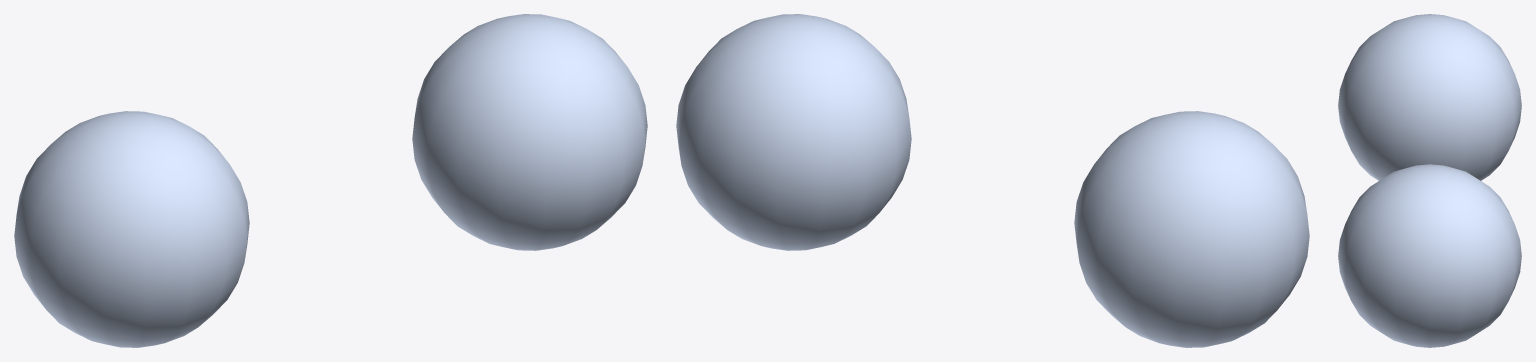
File: 15_back_twinbun_high.fbx
3 views of the same model, side by side, from view 1: azimuth 30°, elevation 25°; view 2: azimuth 150°, elevation 25°; view 3: azimuth 270°, elevation 25° (orthographic). The views are drawn at different scales.
Parts seen in each view (by area): view 1: 15_back_twinbun_high; view 2: 15_back_twinbun_high; view 3: 15_back_twinbun_high.
Part boxes in pixels (bbox=[...]): 15_back_twinbun_high: bbox=[14, 14, 647, 347]; 15_back_twinbun_high: bbox=[676, 14, 1309, 347]; 15_back_twinbun_high: bbox=[1338, 14, 1521, 347].
Size of the model in its own units: 138 by 47 by 47.
